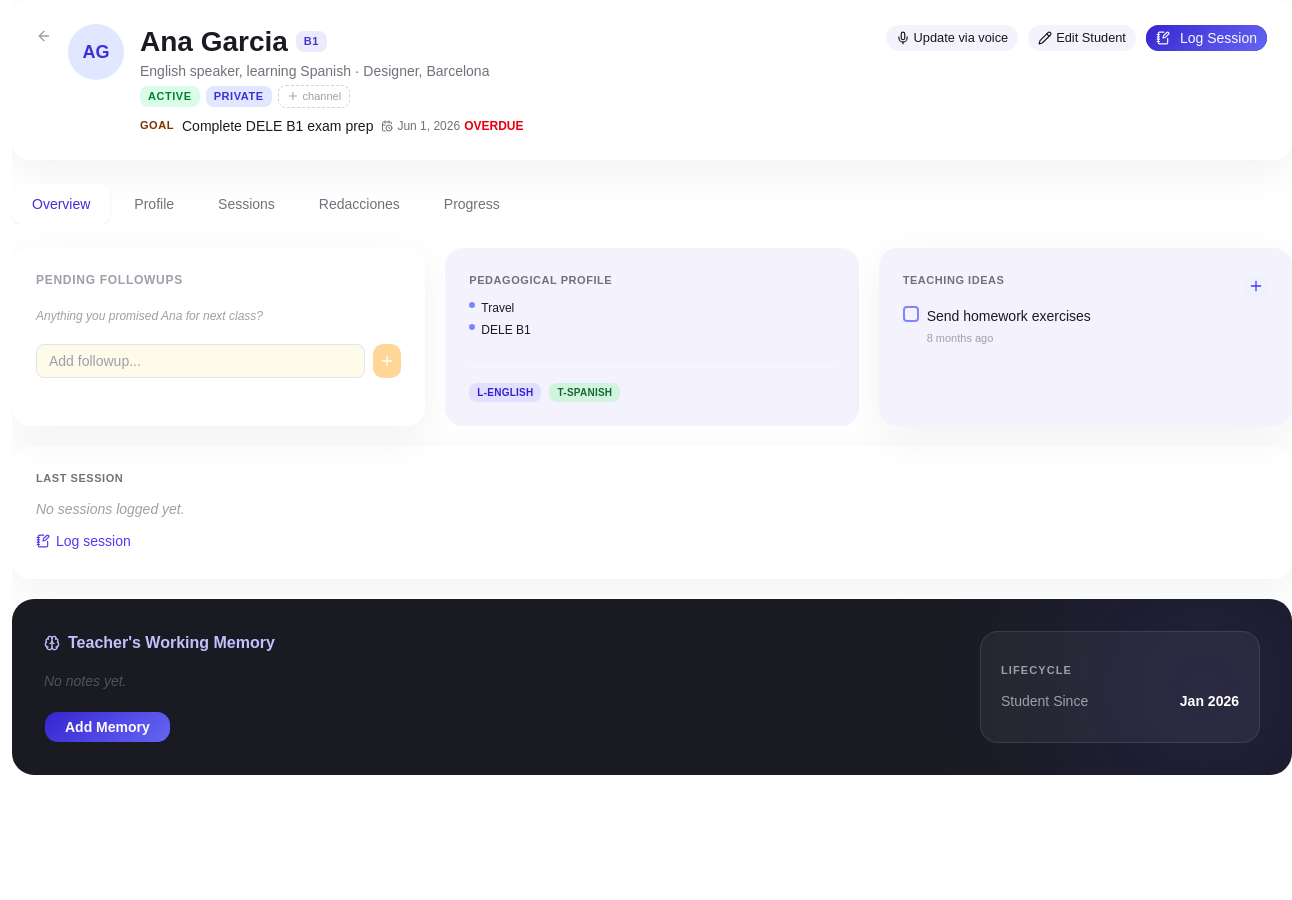
Test: StudentDetail - Profile tab sections › renders hero section with reason for studying
The width and height of the screenshot is (1292, 900).
Expected: the heading "Ana Garcia" is shown, [140,24,288,59]
Click the tab with test id "tab-profile" at (154, 204), box [114,184,194,224]
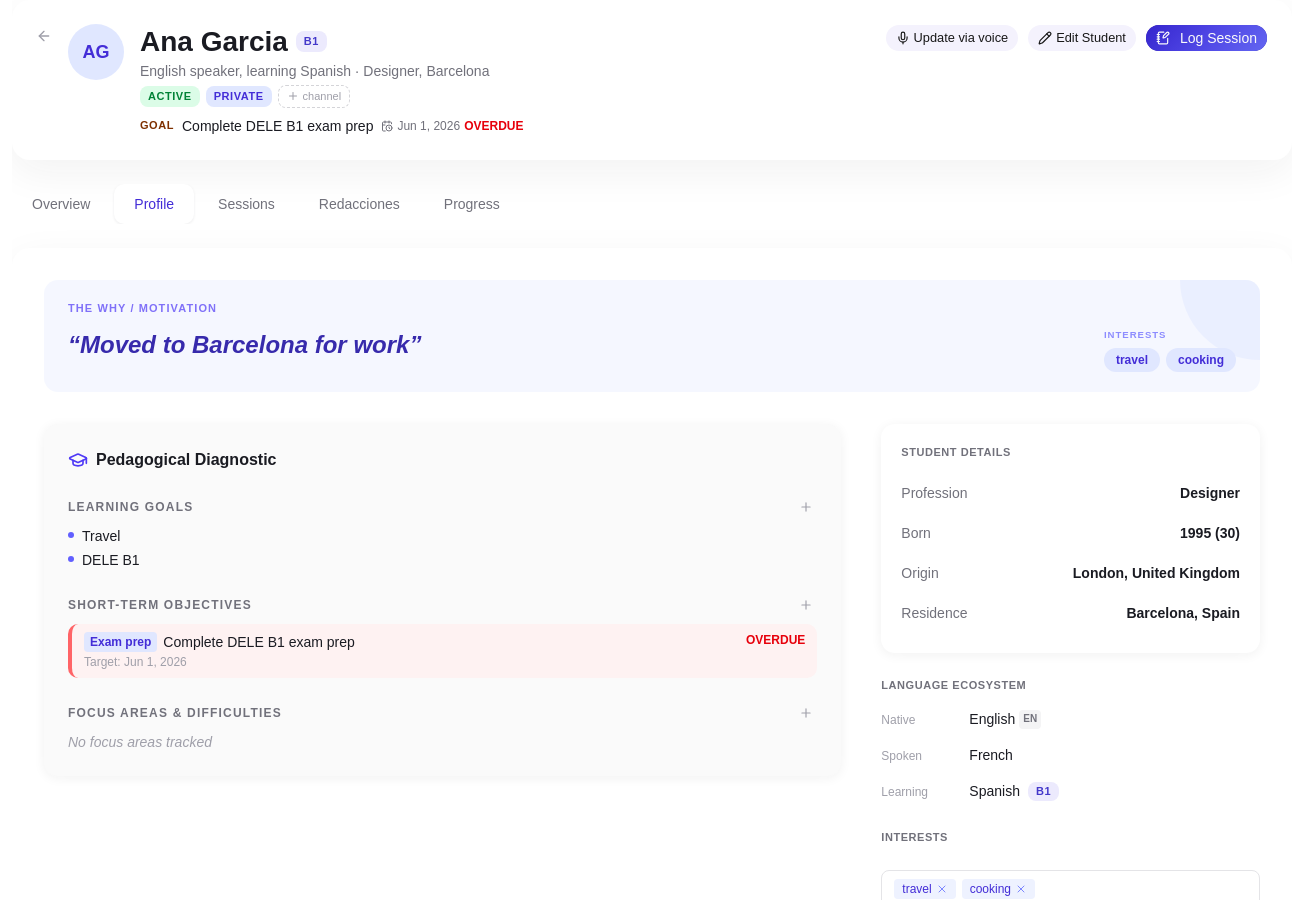
Now the element with test id "profile-hero" is shown, box [44,280,1260,392]
Now the text with test id "reason-quote" shows "Moved to Barcelona for work", box [80,331,409,358]
